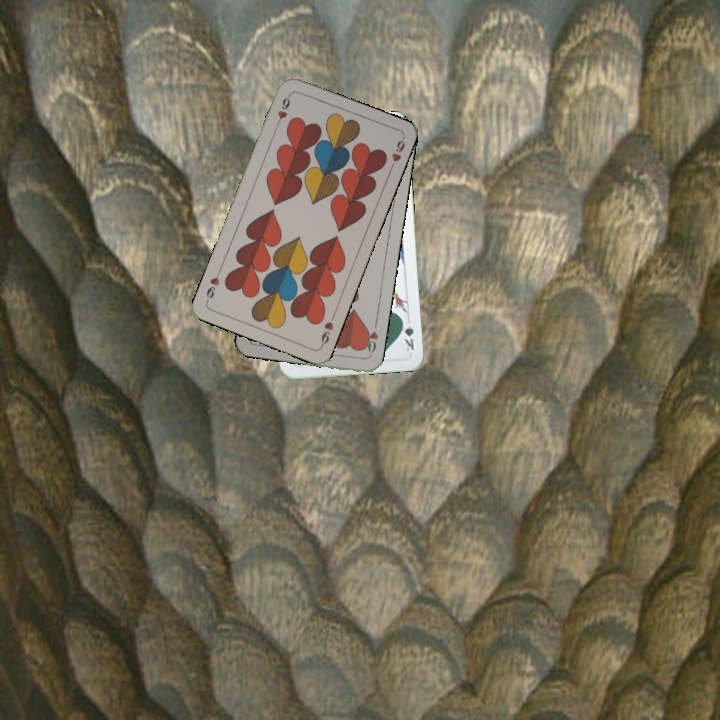GK: (398, 315, 417, 355)
H9: (317, 310, 338, 350), (272, 91, 293, 129)
HO: (360, 318, 381, 358)
